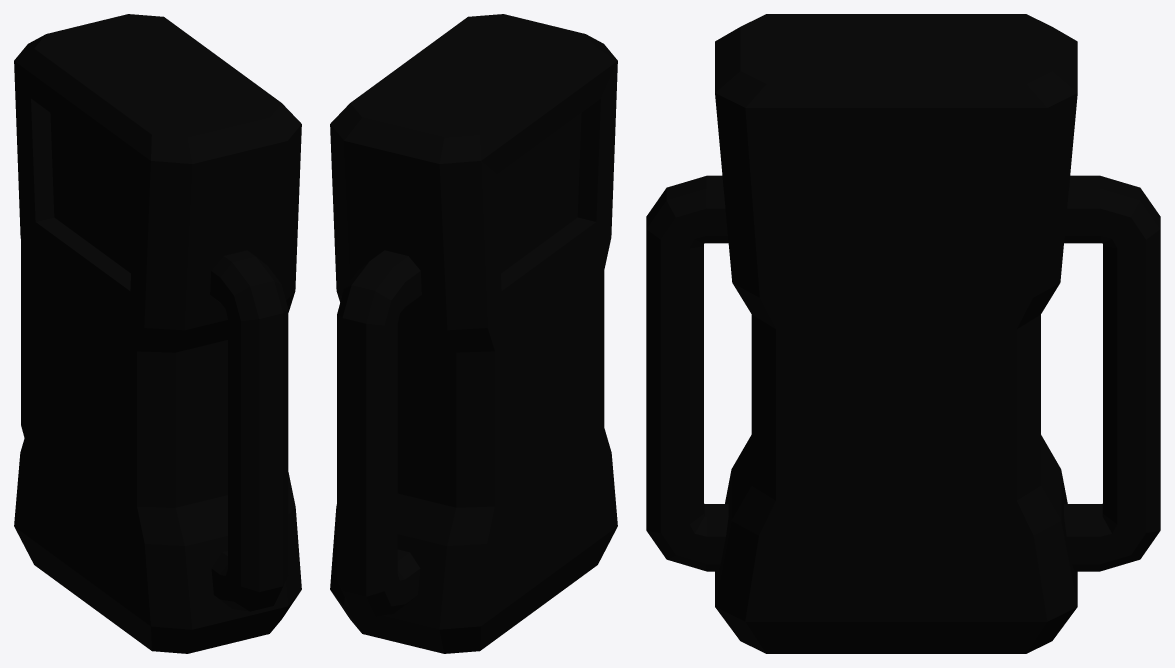
Rendered from Technology3.fbx.
The picture shows the model from 3 angles, left to right: view 1: azimuth 30°, elevation 25°; view 2: azimuth 150°, elevation 25°; view 3: azimuth 270°, elevation 25°; orthographic projection. The views are drawn at different scales.
Visible parts, largest first — view 1: Technology3; view 2: Technology3; view 3: Technology3.
Boxes of the visible parts, x1,y1,x2,y2 form: Technology3: [14, 14, 301, 653]; Technology3: [330, 14, 617, 653]; Technology3: [646, 14, 1160, 653].
Size of the model in its own units: 17.9 by 58.49 by 47.81.
